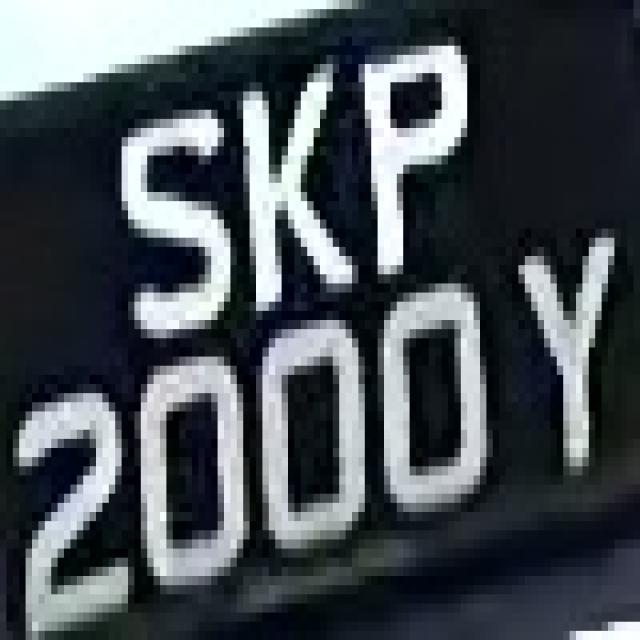0: (121, 311, 262, 585), (378, 247, 518, 521), (250, 311, 384, 558)
2: (26, 357, 134, 612)
K: (224, 64, 346, 338)
P: (339, 37, 480, 265)
S: (109, 100, 243, 357)
Y: (512, 201, 621, 512)
